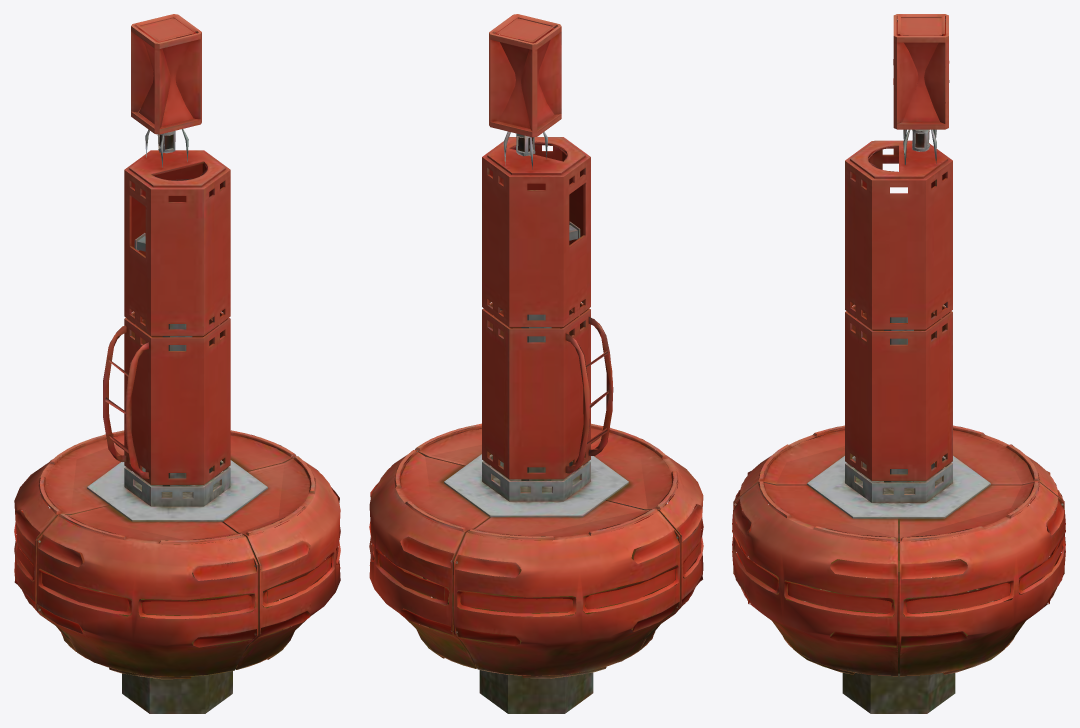
File: ph_lateral_sea_marker.glb
3 renders of one model, left to right at view 1: azimuth 30°, elevation 25°; view 2: azimuth 150°, elevation 25°; view 3: azimuth 270°, elevation 25°, orthographic. The views are drawn at different scales.
Visible parts, largest first — view 1: lateral_sea_marker; view 2: lateral_sea_marker; view 3: lateral_sea_marker.
Part boxes in pixels (x1,y1,x2,y2): lateral_sea_marker: (14,14,340,713); lateral_sea_marker: (369,14,703,713); lateral_sea_marker: (732,14,1065,713).
Bounding box in the file's own units: 3.02 × 6.85 × 3.03.
Materials: 1 (1 with a texture image).
